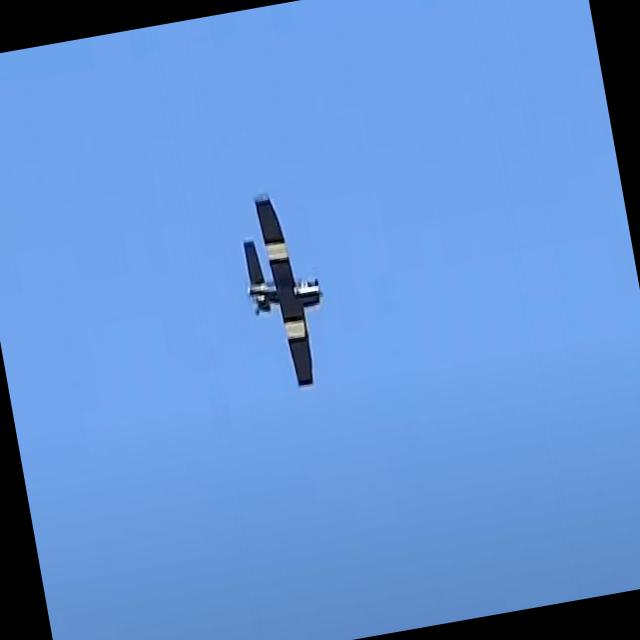UAV: (190, 152, 416, 447)
